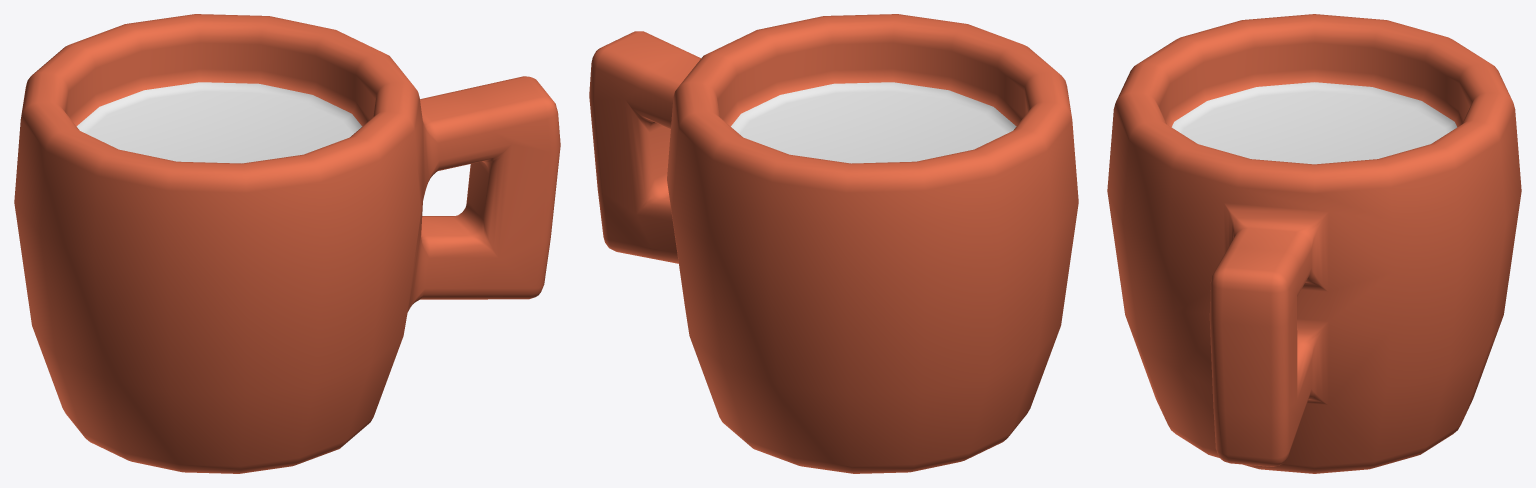
File: cup-transformed.glb
3 renders of one model, left to right at view 1: azimuth 30°, elevation 25°; view 2: azimuth 150°, elevation 25°; view 3: azimuth 270°, elevation 25°, orthographic.
Visible parts, largest first — view 1: cup; view 2: cup; view 3: cup.
Part boxes in pixels (x1,y1,x2,y2): cup: [14, 14, 560, 473]; cup: [589, 14, 1078, 473]; cup: [1107, 14, 1521, 473].
Bounding box in the file's own units: 2.04 × 1.3 × 1.52.
